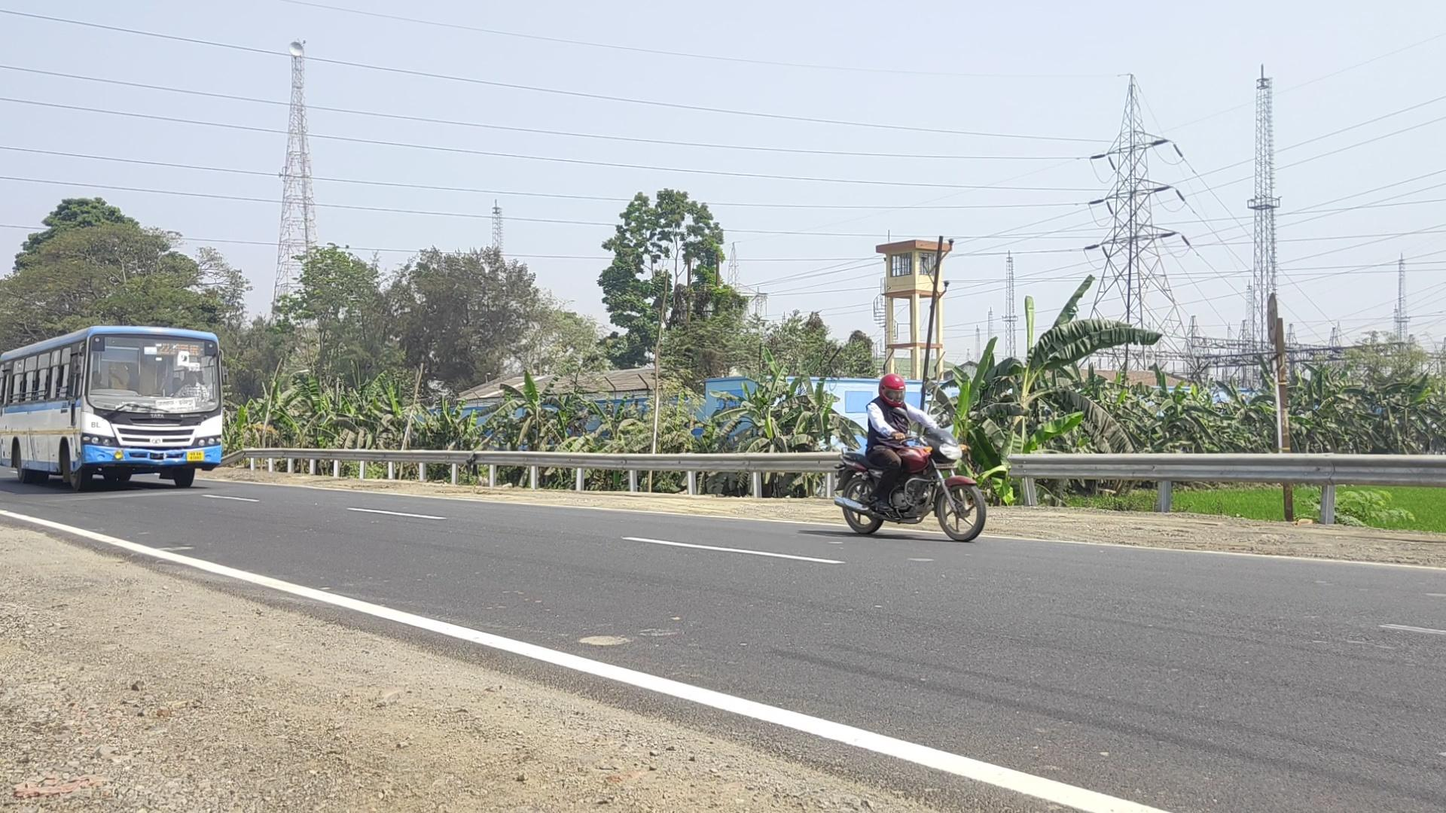Bus: (1, 324, 222, 493)
bike: (834, 374, 987, 542)
